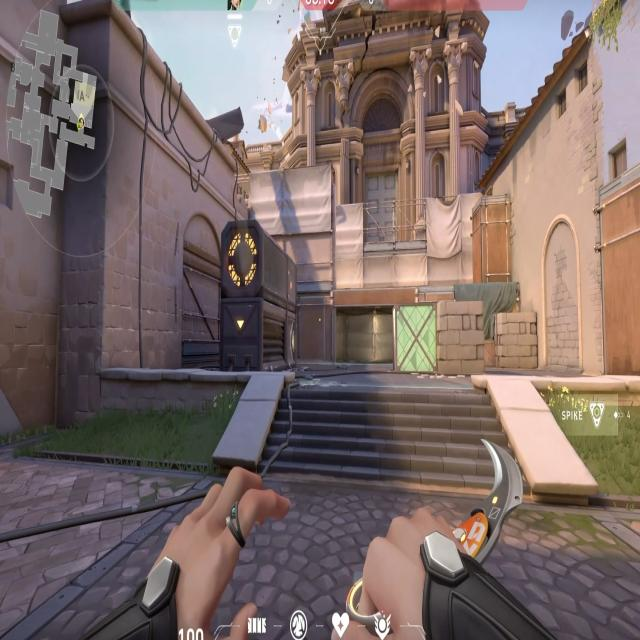A_Heaven_Box: (472, 196, 516, 283)
A_Heaven_Wall: (249, 167, 333, 295)
A_Hell: (328, 285, 419, 369)
A_Site_Box: (393, 302, 486, 378)
